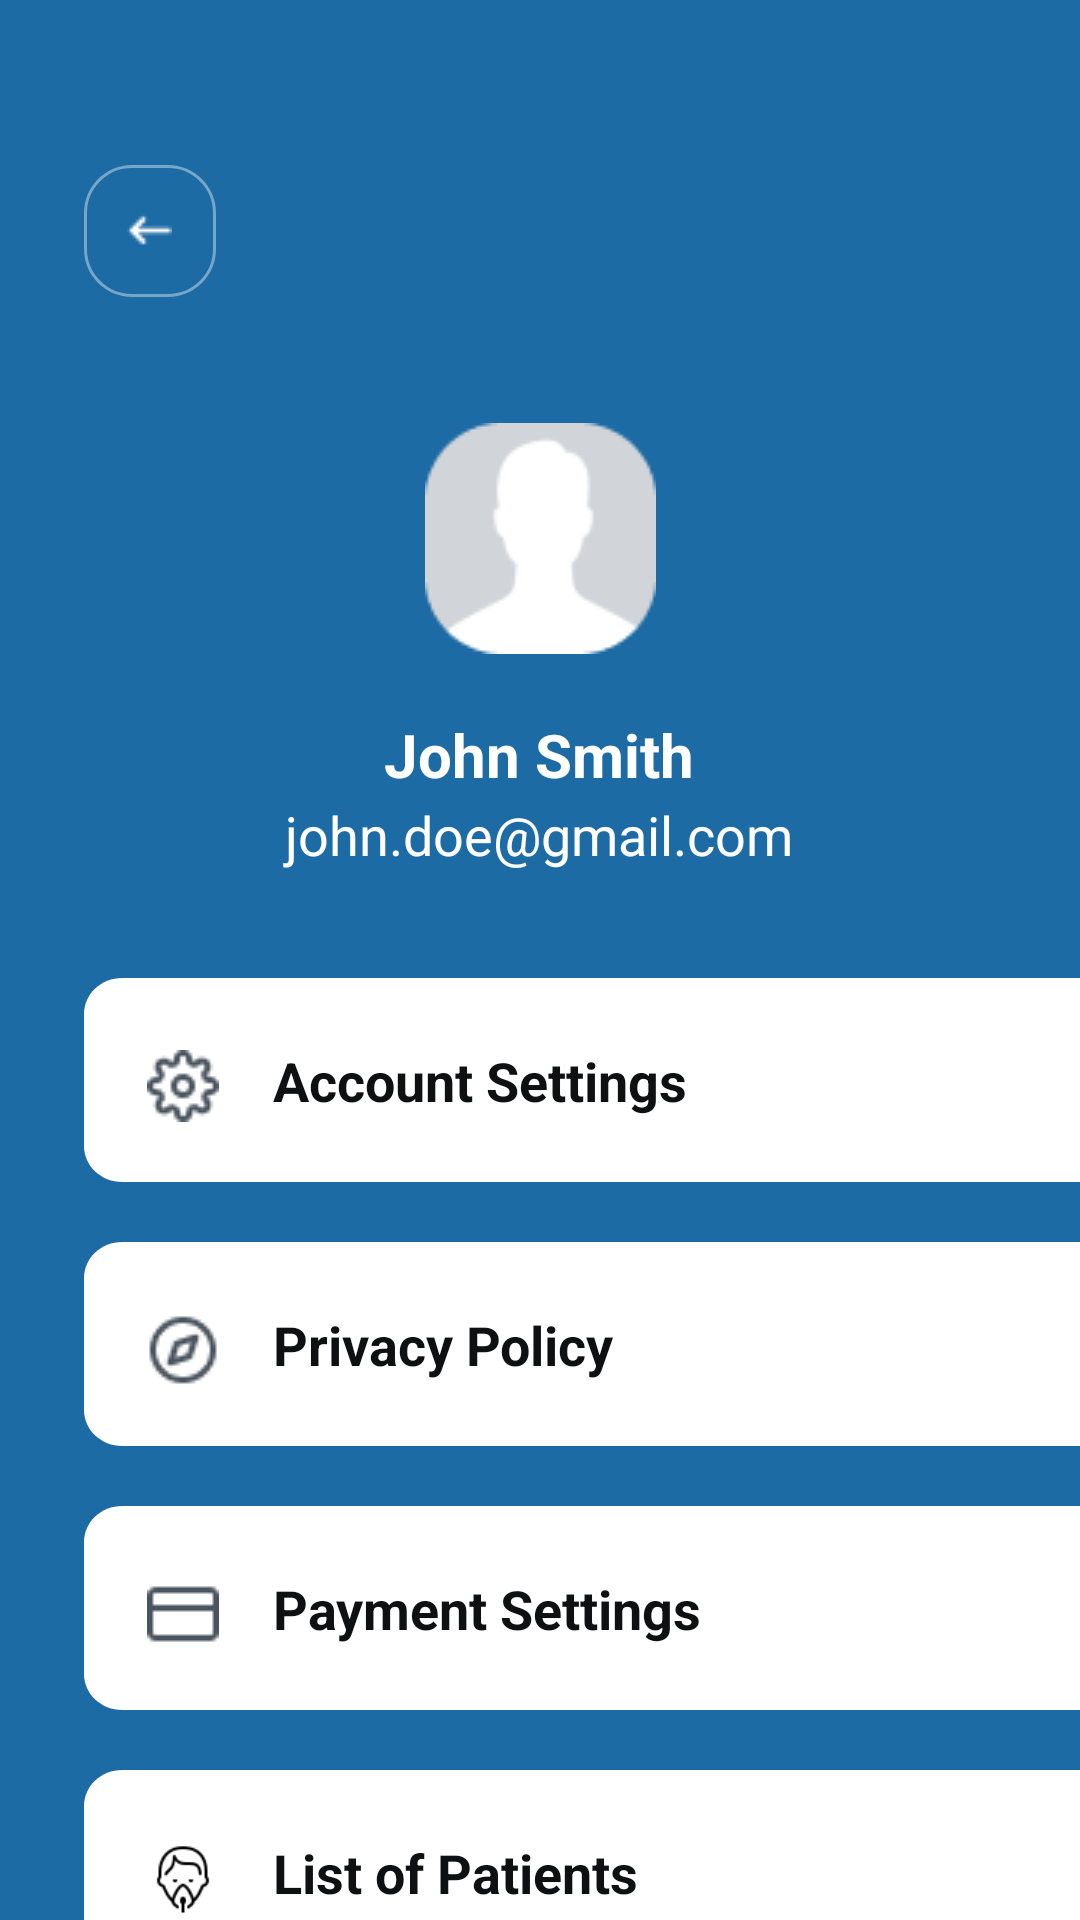

Screen size 1080 × 1920. Icon name, then its box in pixels as (x1, y1, x2, y2):
back: (84, 165, 216, 297)
card: (147, 1586, 219, 1642)
profile: (425, 423, 656, 654)
set: (147, 1050, 219, 1122)
